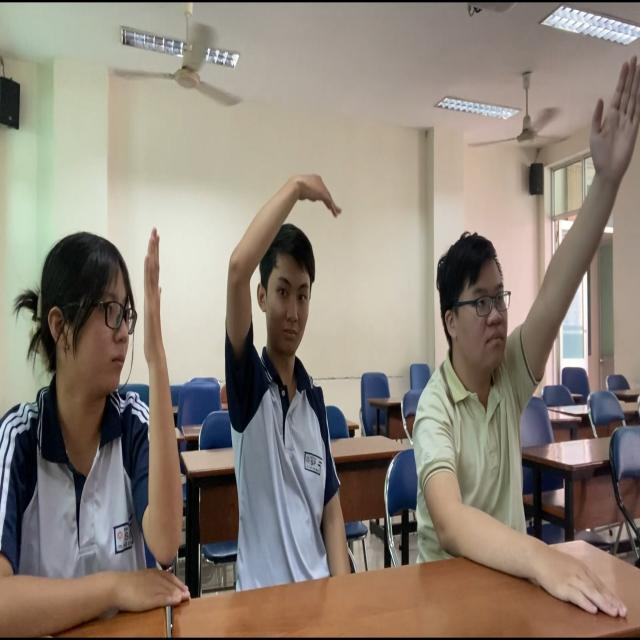raise_hand: (421, 42, 640, 640), (1, 174, 192, 640)
